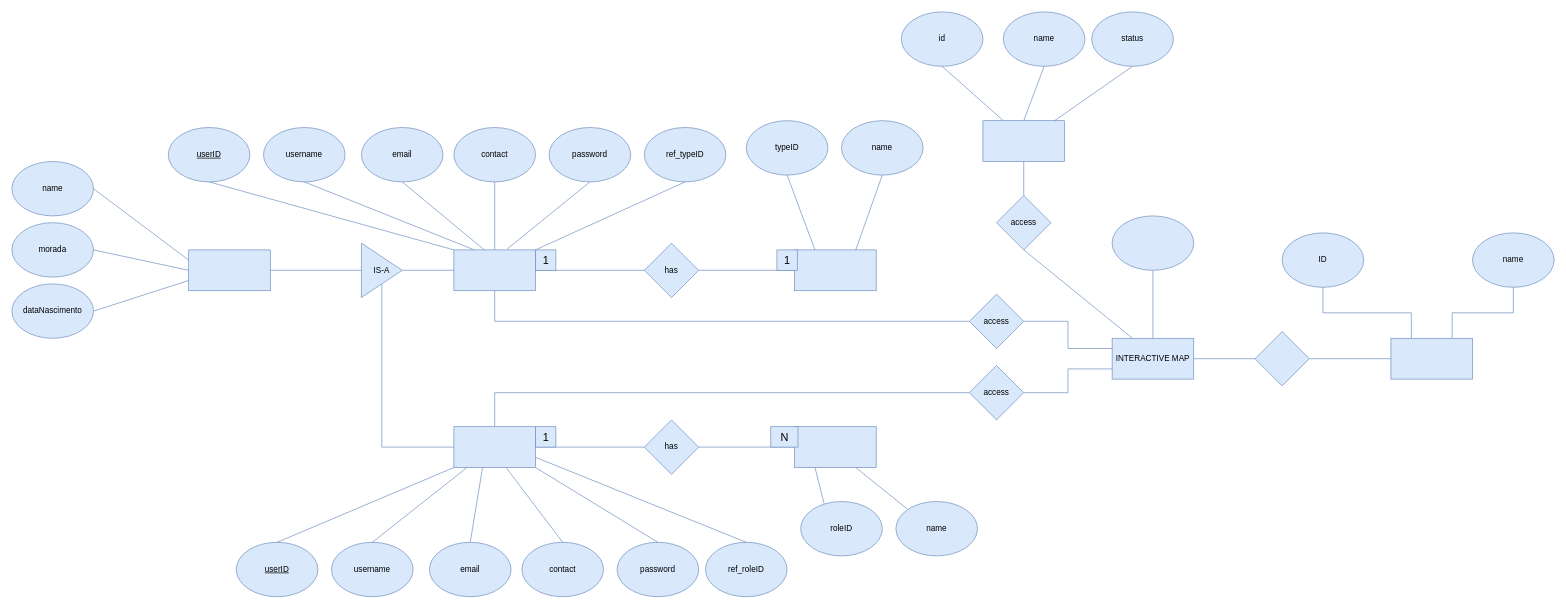
Image size: 1566x609. Some labels were removed from this diagram. The centre of each missing label's shape, as x and y in pixels:
"ACCOUNT TYPE" goes at [835,270].
"BEACHGOER" goes at [494,270].
"has a" goes at [1281,358].
"HAZARDS" goes at [1023,141].
"index" goes at [1152,242].
"LIFEGUARD" goes at [494,447].
"LOCATION" goes at [1431,358].
"PESSOA" goes at [229,270].
"ROLE TYPE" goes at [835,447].
